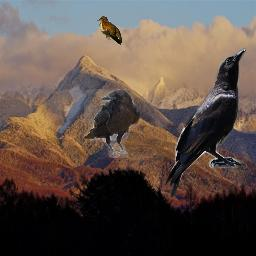Crow: (164, 48, 246, 197), (84, 89, 140, 158)
Cuckoo: (97, 16, 122, 45)
